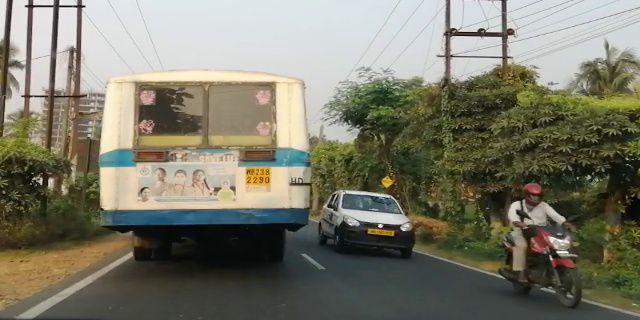Bus: (93, 66, 315, 266)
Car: (319, 184, 416, 260)
Motorbike: (490, 182, 586, 312)
